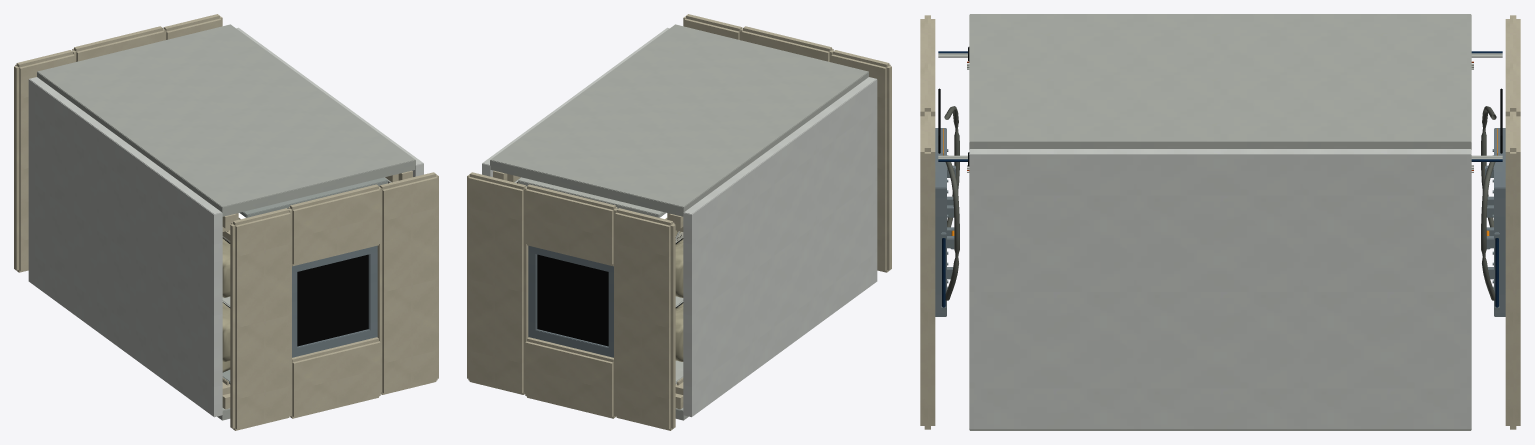
The model's file is unity.glb.
The picture shows the model from 3 angles, left to right: view 1: azimuth 30°, elevation 25°; view 2: azimuth 150°, elevation 25°; view 3: azimuth 270°, elevation 25°; orthographic projection. The views are drawn at different scales.
Parts seen in each view (by area): view 1: unity_detailed; view 2: unity_detailed; view 3: unity_detailed.
Part boxes in pixels (bbox=[...]): unity_detailed: bbox=[14, 14, 438, 430]; unity_detailed: bbox=[467, 14, 891, 430]; unity_detailed: bbox=[920, 14, 1520, 430].
Bounding box in the file's own units: 3.09 × 3 × 5.64.
17 materials, 14 textured.
